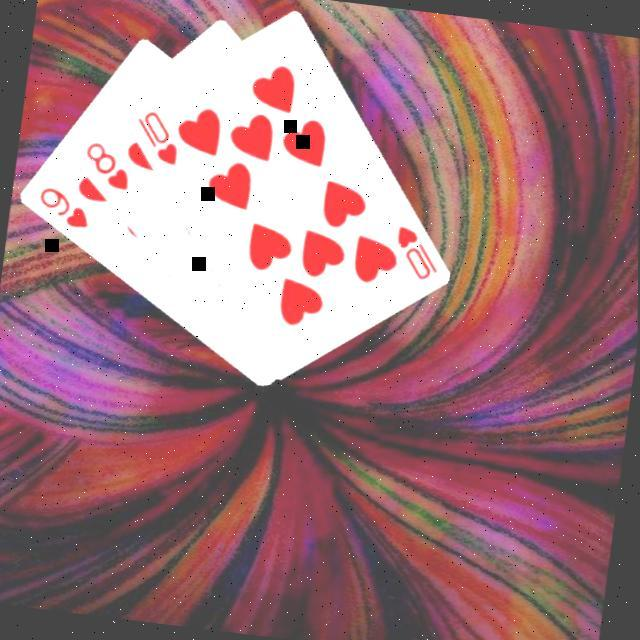10H: (386, 222, 444, 286), (127, 106, 184, 170)
8H: (75, 137, 135, 195)
9H: (30, 182, 94, 234)
